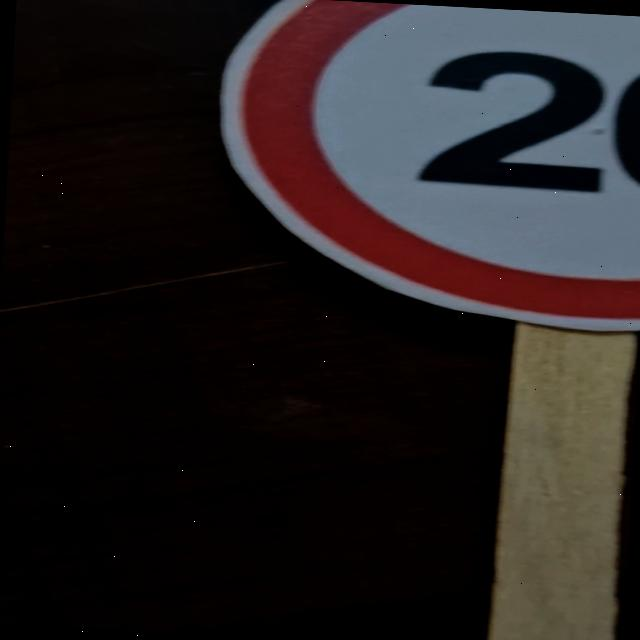Speed20: (151, 0, 640, 345)
